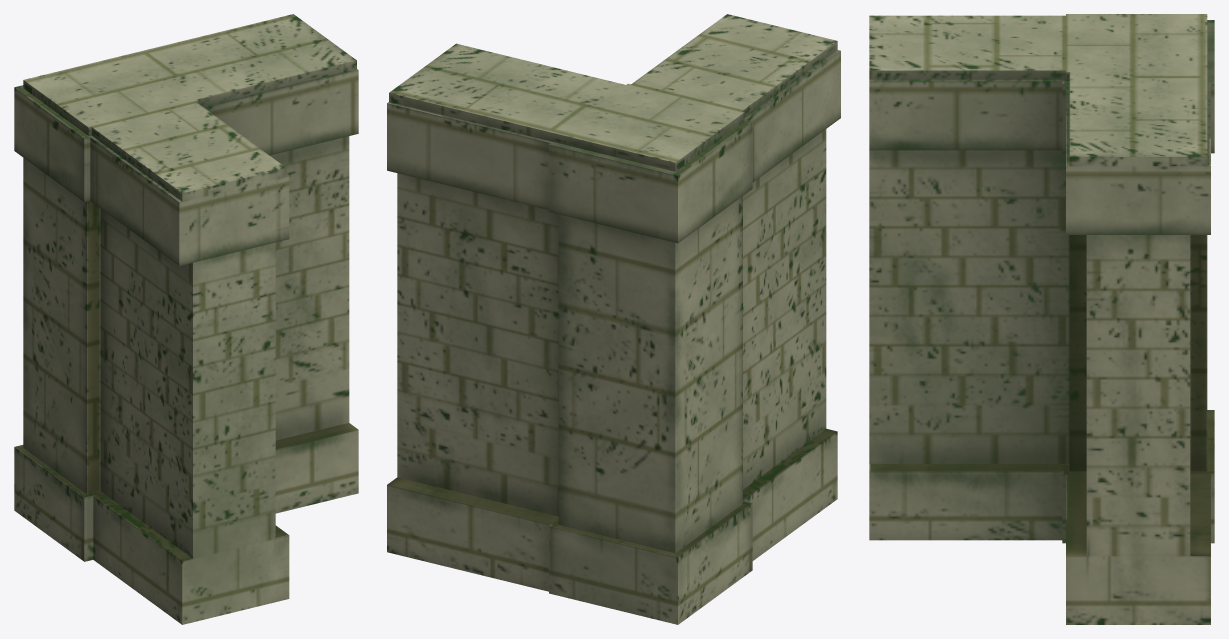
The model's file is Corner Wall.fbx.
3 renders of one model, left to right at view 1: azimuth 30°, elevation 25°; view 2: azimuth 150°, elevation 25°; view 3: azimuth 270°, elevation 25°, orthographic. The views are drawn at different scales.
Parts seen in each view (by area): view 1: Corner Wall; view 2: Corner Wall; view 3: Corner Wall.
Part boxes in pixels (x1,y1,x2,y2): Corner Wall: (14, 14, 358, 624); Corner Wall: (387, 14, 840, 624); Corner Wall: (869, 14, 1214, 624).
Bounding box in the file's own units: 342 × 511 × 342.
Materials: 1 (1 with a texture image).
